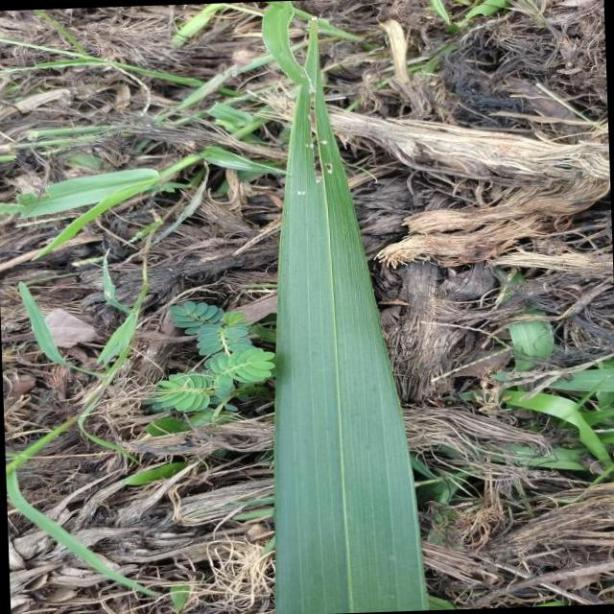Boron: (272, 11, 427, 614)
